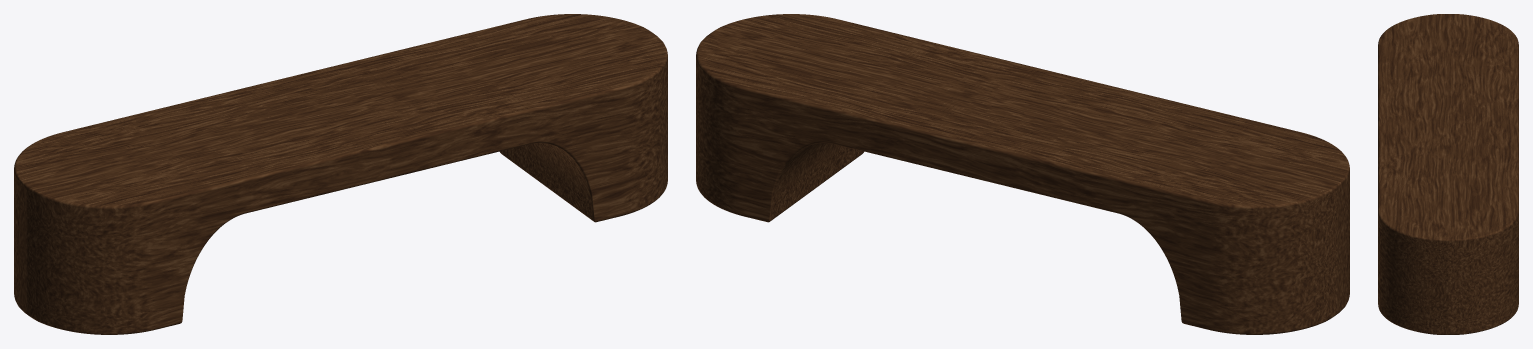
File: bench.glb
3 renders of one model, left to right at view 1: azimuth 30°, elevation 25°; view 2: azimuth 150°, elevation 25°; view 3: azimuth 270°, elevation 25°, orthographic. The views are drawn at different scales.
Visible parts, largest first — view 1: Walnut cylinder supports and connecting seat; view 2: Walnut cylinder supports and connecting seat; view 3: Walnut cylinder supports and connecting seat.
Boxes of the visible parts, <box> form: Walnut cylinder supports and connecting seat: <box>14,14,667,334</box>; Walnut cylinder supports and connecting seat: <box>696,14,1349,334</box>; Walnut cylinder supports and connecting seat: <box>1378,14,1518,334</box>.
Bounding box in the file's own units: 2.44 × 0.48 × 0.64.
Materials: 1 (1 with a texture image).
